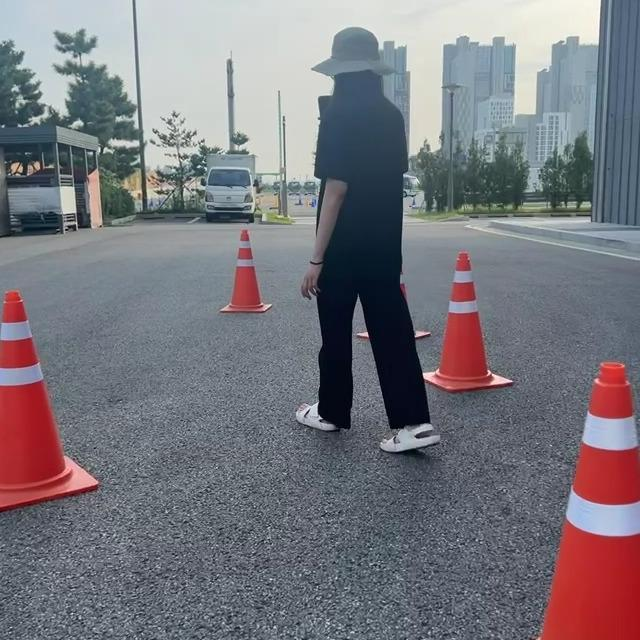fallen_object: (0, 252, 131, 532), (544, 320, 640, 639), (206, 205, 310, 369), (437, 222, 526, 410)
